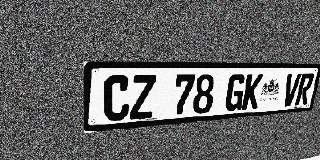7: (171, 75, 196, 116)
8: (192, 74, 216, 114)
C: (103, 75, 131, 122)
G: (224, 74, 247, 112)
K: (241, 74, 264, 110)
R: (295, 73, 315, 106)
V: (281, 73, 302, 107)
Z: (130, 75, 156, 120)
